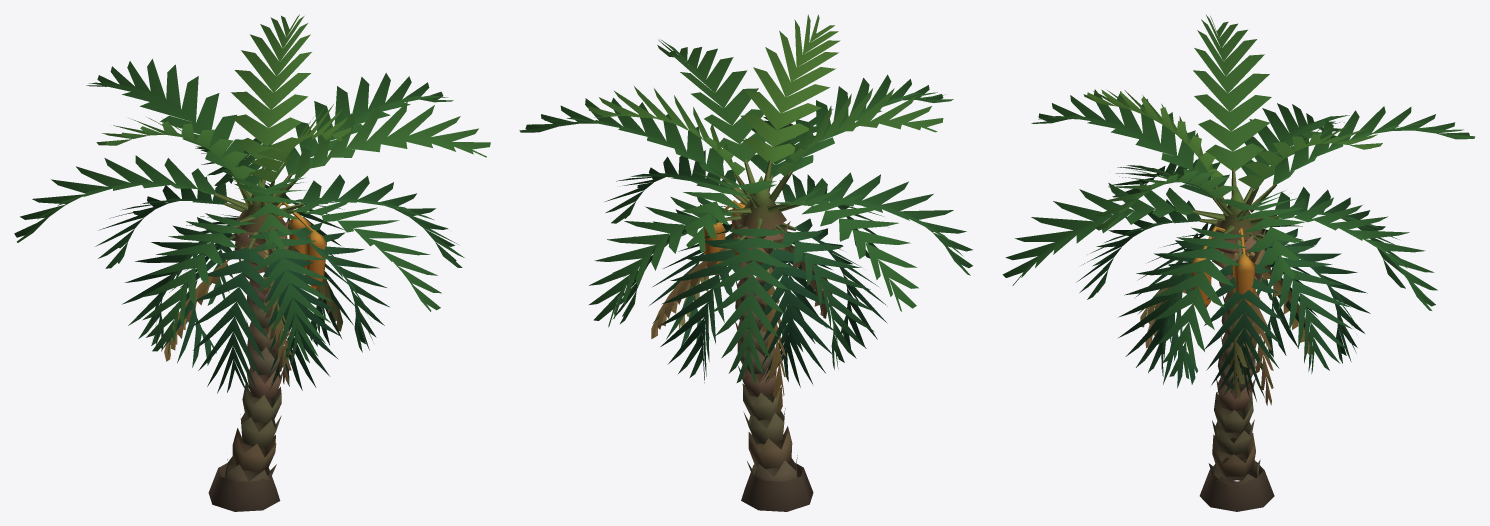
File: palm_c.glb
3 views of the same model, side by side, from view 1: azimuth 30°, elevation 25°; view 2: azimuth 150°, elevation 25°; view 3: azimuth 270°, elevation 25° (orthographic).
Visible parts, largest first — view 1: palm_c; view 2: palm_c; view 3: palm_c.
Part boxes in pixels (box(x1,y1,x2,y2)): palm_c: box(14, 14, 490, 511); palm_c: box(519, 14, 972, 511); palm_c: box(1002, 15, 1475, 511).
Size of the model in its own units: 7.83 by 7.63 by 7.7.
